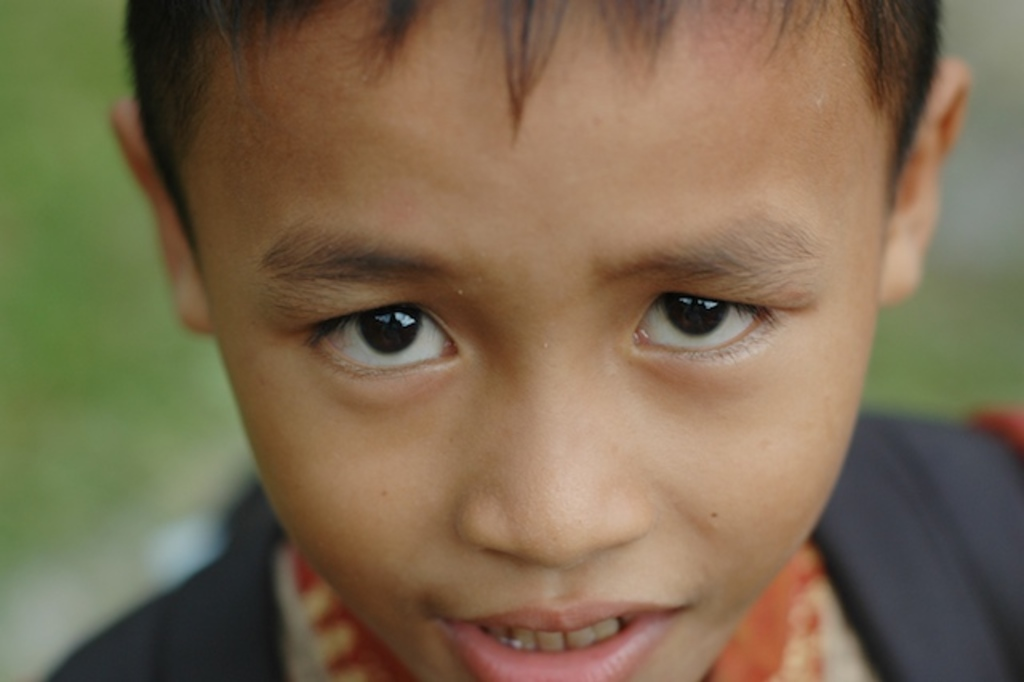Human-face: (181, 0, 886, 680)
